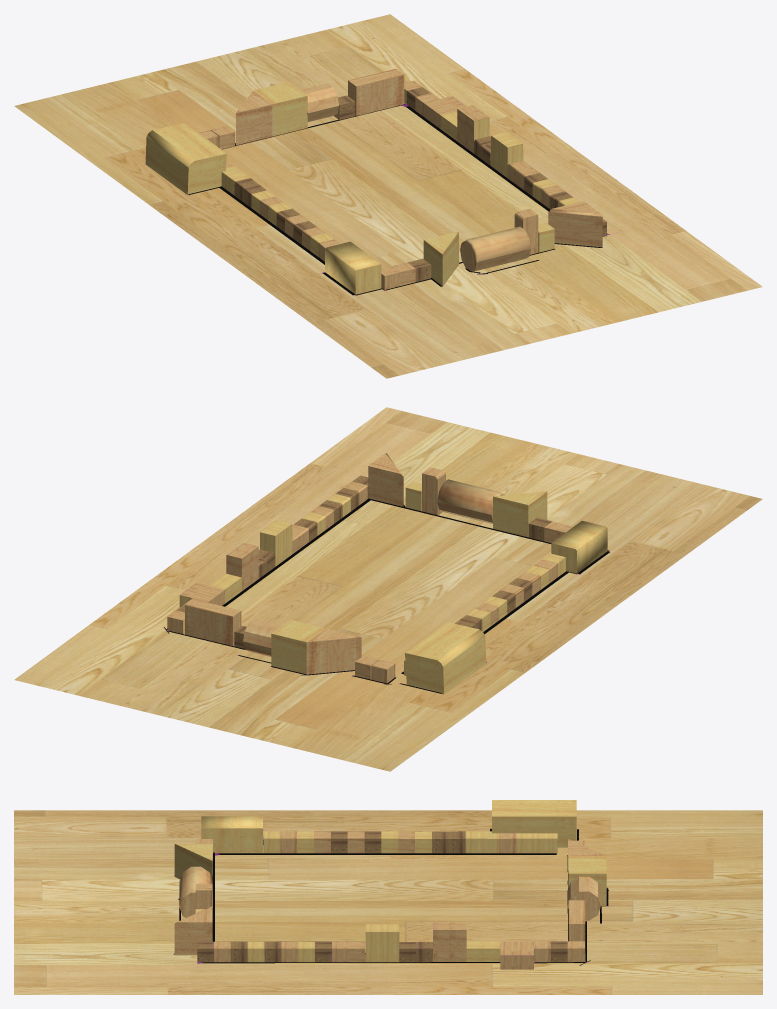
File: Enviroment.obj
3 renders of one model, top to bottom at view 1: azimuth 30°, elevation 25°; view 2: azimuth 150°, elevation 25°; view 3: azimuth 270°, elevation 25°, orthographic.
Visible parts, largest first — view 1: Plane, Bottom_Cube.004, Right_Cube.006, Left_Cube.005, Top_Cube.001; view 2: Plane, Bottom_Cube.004, Left_Cube.005, Top_Cube.001, Right_Cube.006; view 3: Plane, Bottom_Cube.004, Top_Cube.001, Right_Cube.006, Left_Cube.005.
Boxes of the visible parts, <box> form: Plane: <box>14,14,762,378</box>; Bottom_Cube.004: <box>145,123,381,294</box>; Right_Cube.006: <box>381,201,602,289</box>; Left_Cube.005: <box>199,69,405,149</box>; Top_Cube.001: <box>188,80,618,295</box>; Plane: <box>14,407,762,771</box>; Bottom_Cube.004: <box>404,520,607,694</box>; Left_Cube.005: <box>185,599,395,684</box>; Top_Cube.001: <box>161,475,609,693</box>; Right_Cube.006: <box>367,453,573,543</box>; Plane: <box>14,810,762,994</box>; Bottom_Cube.004: <box>201,800,576,853</box>; Top_Cube.001: <box>173,828,609,969</box>; Right_Cube.006: <box>174,839,214,955</box>; Left_Cube.005: <box>567,838,606,953</box>.
Bounding box in the file's own units: 52.37 × 5.57 × 89.82.
